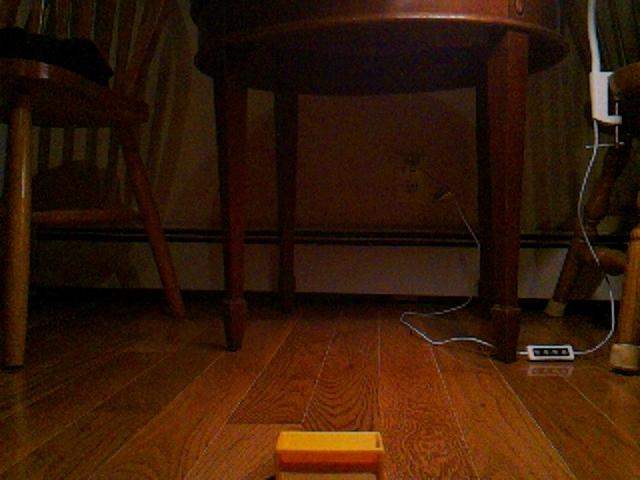yellow: (273, 429, 387, 480)
